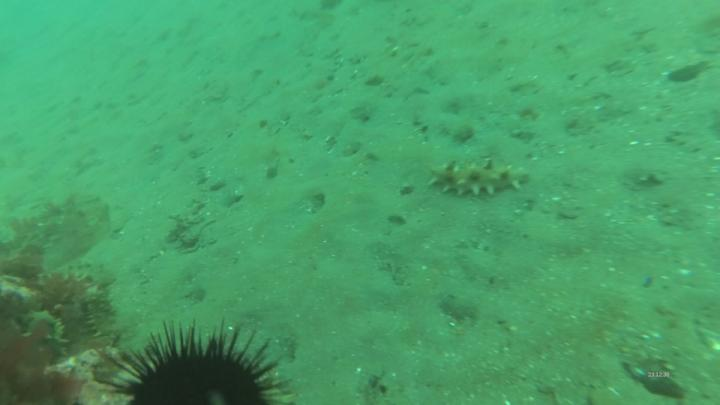echinus: (96, 320, 297, 405)
holothurian: (429, 160, 534, 200), (27, 310, 75, 362), (81, 285, 121, 337)
